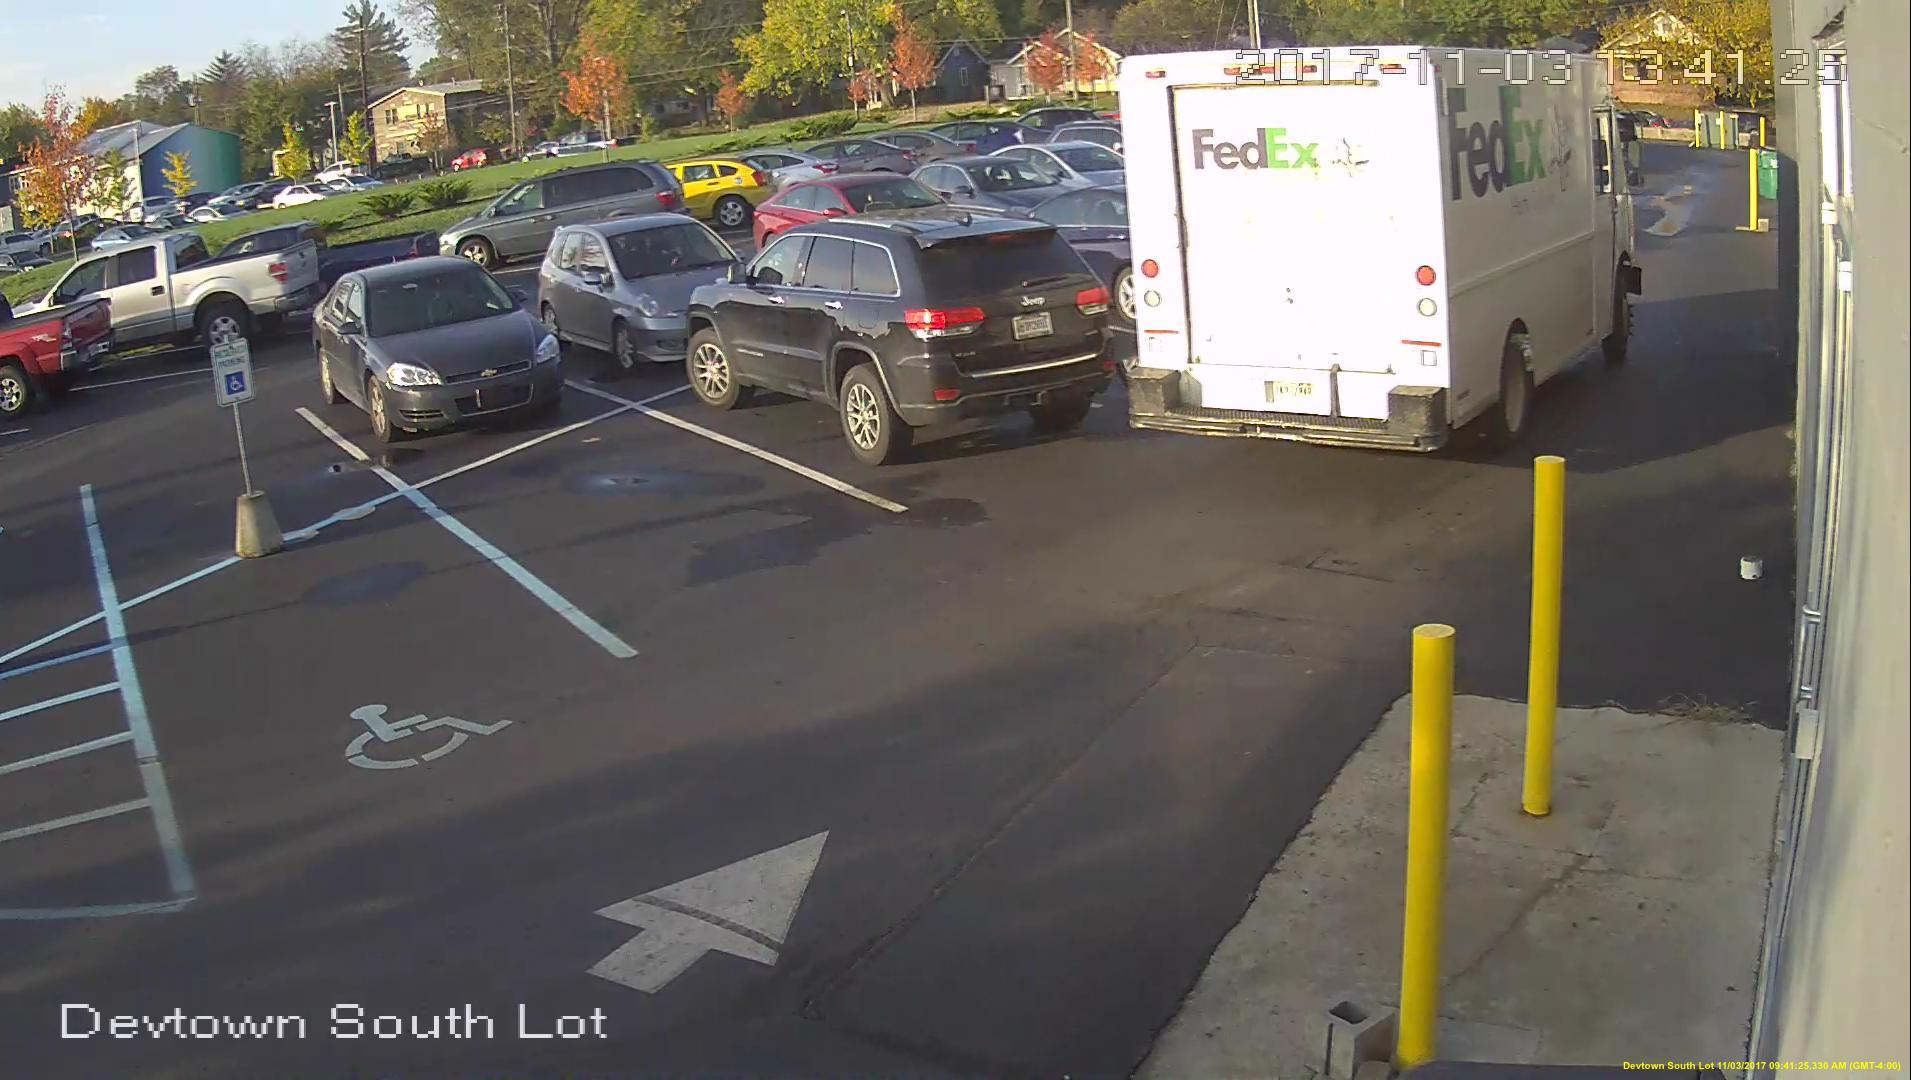fedex_truck: (1116, 45, 1651, 466)
